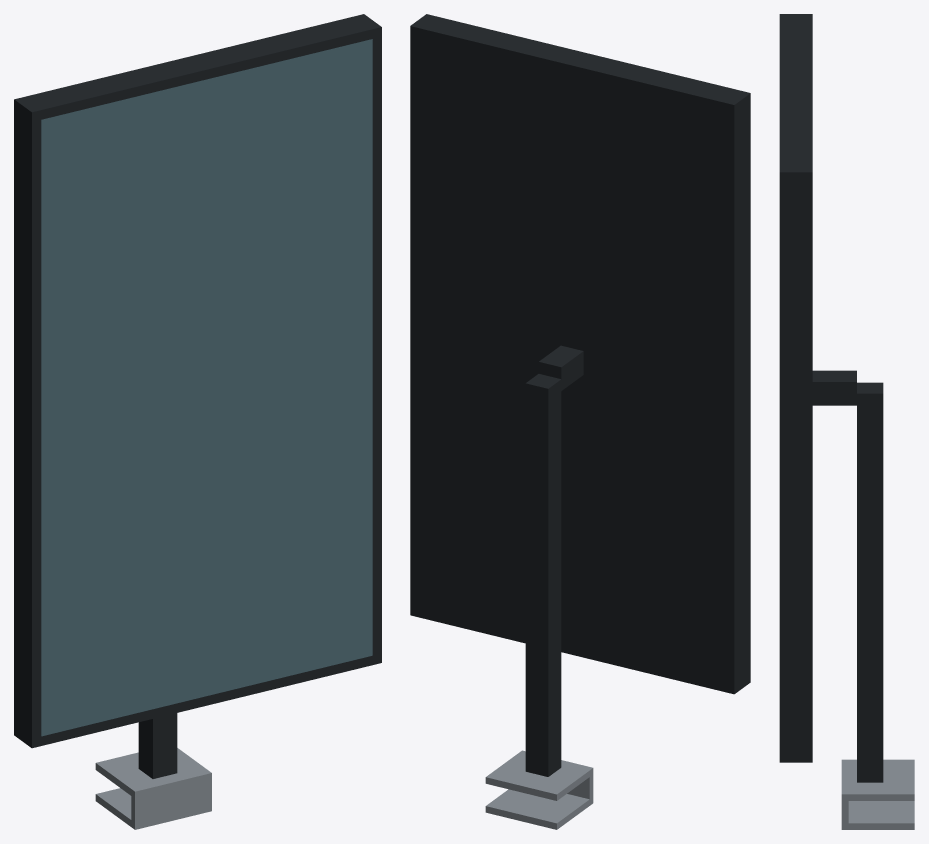
3 renders of one model, left to right at view 1: azimuth 30°, elevation 25°; view 2: azimuth 150°, elevation 25°; view 3: azimuth 270°, elevation 25°, orthographic. The views are drawn at different scales.
Parts seen in each view (by area): view 1: Kiosk22 exact active display, Kiosk22 small bezel, Kiosk clamp edge bridge, Kiosk simple vertical arm, Kiosk clamp upper contact, Kiosk clamp lower contact; view 2: Kiosk22 small bezel, Kiosk simple vertical arm, Kiosk clamp lower contact, Kiosk clamp upper contact, Kiosk short display arm; view 3: Kiosk22 small bezel, Kiosk simple vertical arm, Kiosk clamp upper contact, Kiosk clamp lower contact, Kiosk short display arm, Kiosk clamp edge bridge.
Part boxes in pixels (x1,y1,x2,y2): Kiosk22 exact active display: (41, 39, 372, 736); Kiosk22 small bezel: (14, 14, 381, 748); Kiosk clamp edge bridge: (131, 770, 211, 829); Kiosk simple vertical arm: (138, 713, 177, 778); Kiosk clamp upper contact: (95, 748, 207, 795); Kiosk clamp lower contact: (95, 788, 131, 826); Kiosk22 small bezel: (410, 14, 750, 694); Kiosk simple vertical arm: (525, 374, 561, 776); Kiosk clamp lower contact: (485, 789, 589, 829); Kiosk clamp upper contact: (485, 753, 589, 800); Kiosk short display arm: (538, 345, 583, 390); Kiosk22 small bezel: (779, 14, 812, 762); Kiosk simple vertical arm: (857, 382, 883, 782); Kiosk clamp upper contact: (848, 759, 914, 800); Kiosk clamp lower contact: (848, 801, 914, 829); Kiosk short display arm: (812, 370, 856, 405); Kiosk clamp edge bridge: (841, 759, 848, 829).
Size of the model in its own units: 0.2892 by 0.6123 by 0.1043.
